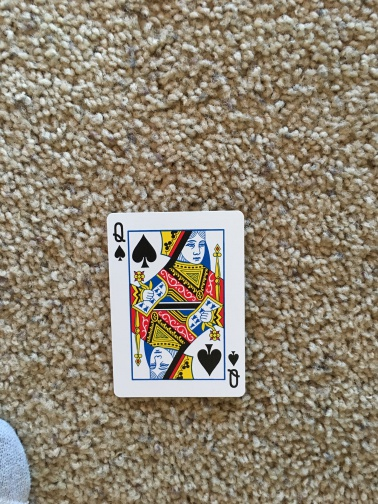queen: (105, 208, 249, 398)
